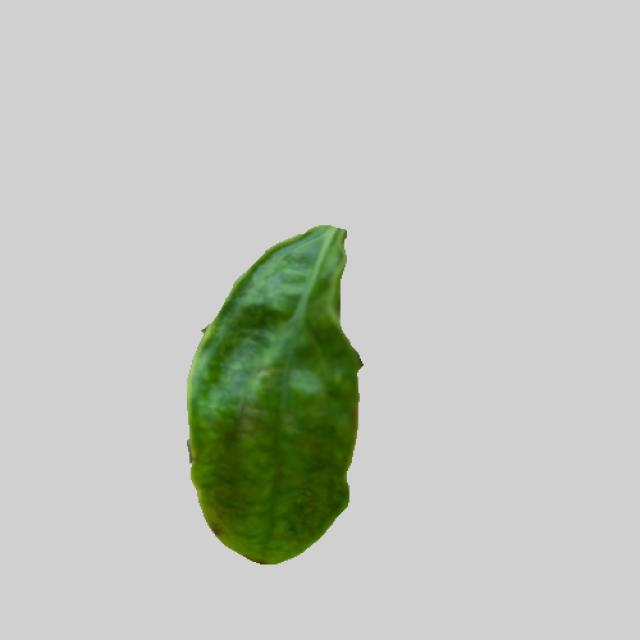yellow-mottle-virus: (182, 224, 365, 567)
